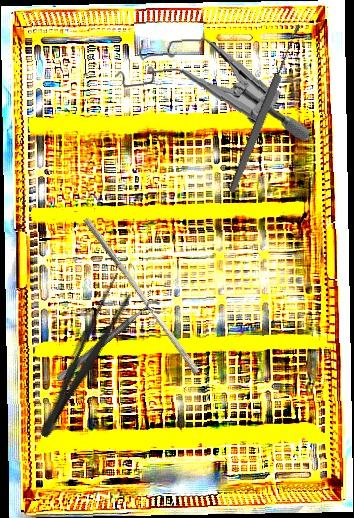Dressing Forceps: (30, 270, 139, 443)
Fixation Ring: (55, 295, 167, 391)
Pusher: (76, 216, 206, 376)
Speculum: (113, 30, 310, 152)
Surgical Spoon: (226, 21, 305, 196)
